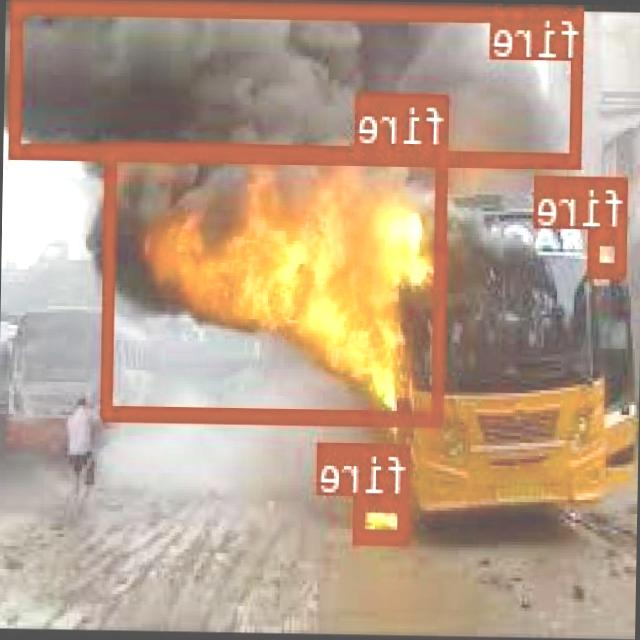fire: (104, 138, 450, 422), (10, 0, 585, 166), (356, 492, 411, 542), (590, 226, 630, 275)
